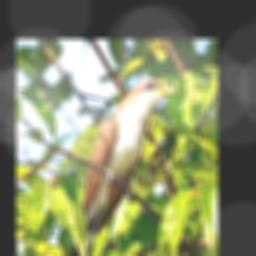Cuckoo: (61, 77, 176, 256)
